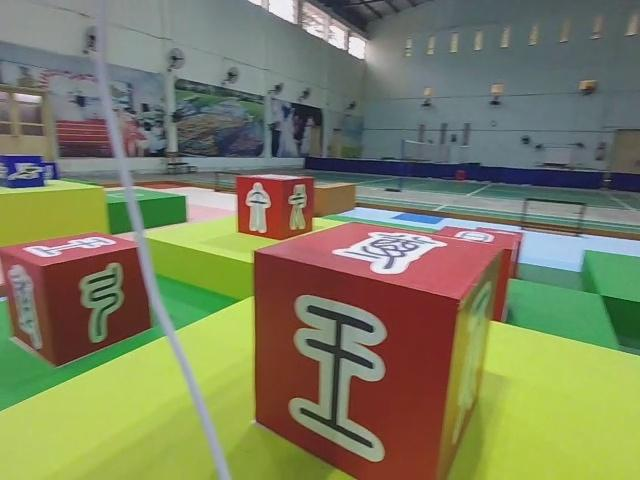R2 Fake: (253, 220, 501, 480), (0, 232, 154, 368), (238, 172, 316, 239)
